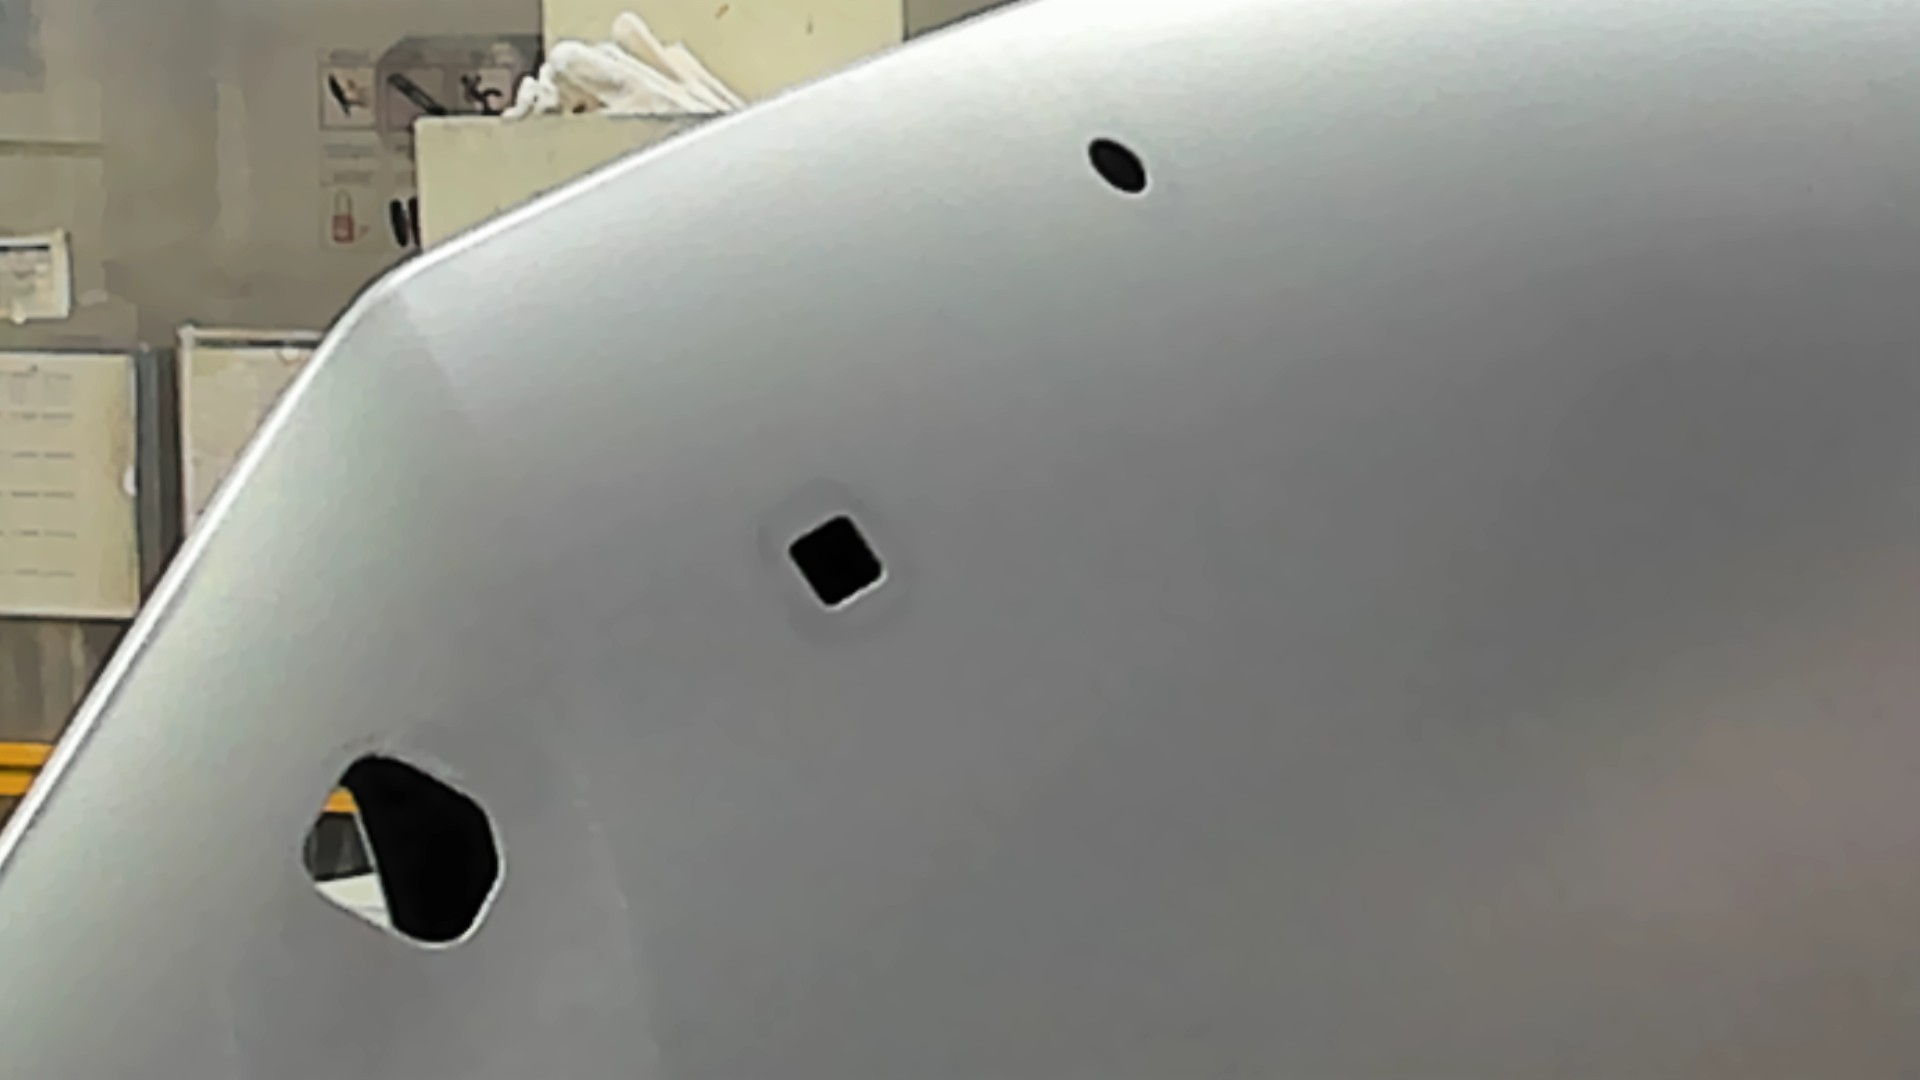chico: (1084, 133, 1153, 203)
grande: (295, 749, 509, 957)
mediano: (785, 506, 893, 618)
